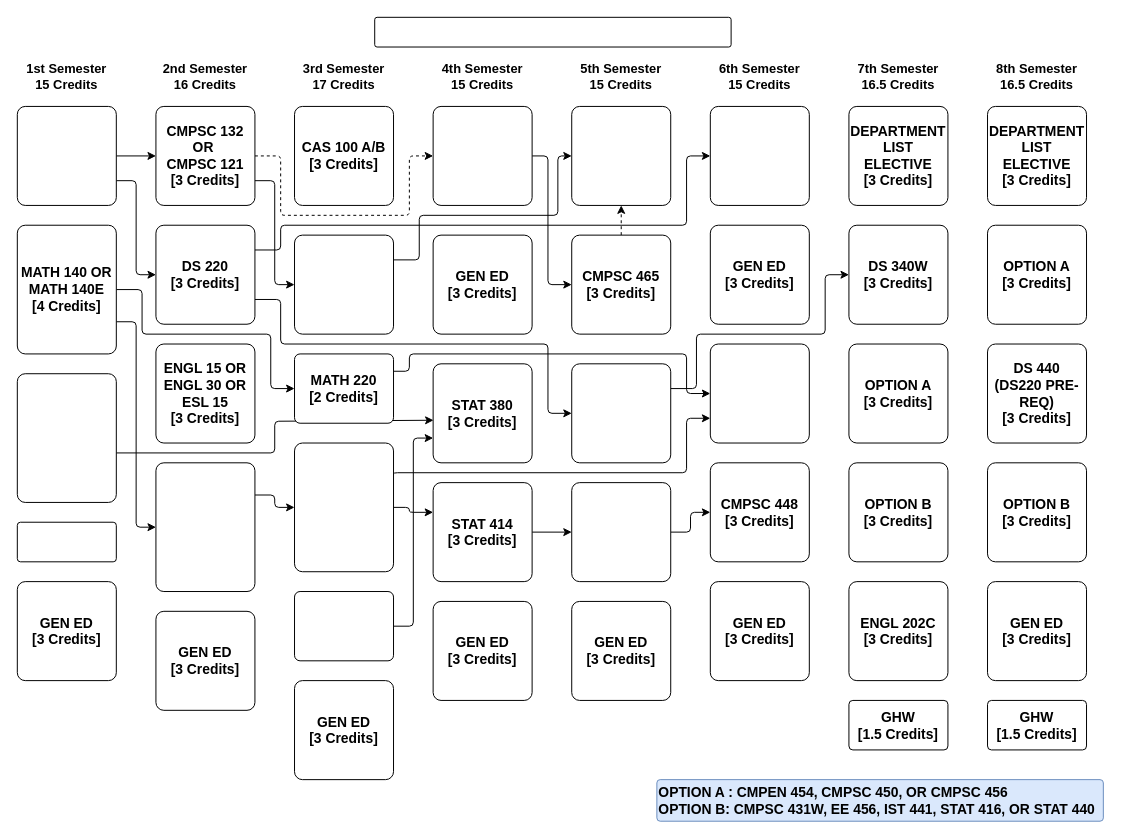
Image size: 1121x839. Some labels were removed from this diagram. The shapes that lost their labels are listed below. From the top down, each one's centre as x and y in pixels, then its label:
(552,31): Computational Data Science
(66,155): CMPSC 131 OR CMPSC 121 [3 Credits]
(482,155): CMPSC 360 [3 Credits]
(621,155): CMPSC 442 OR DS 442 [3 Credits]
(759,155): DS 410 OR CMPSC 410 [3 Credits]
(344,284): CMPSC 221 [3 Credits]
(621,413): DS 300 [3 Credits]
(759,393): CMPSC 455 [3 Credits]
(66,437): DS 200 OR STAT 200 [4 Credits]
(205,527): MATH 141 OR MATH 141E [4 Credits]
(344,507): MATH 230 [4 Credits]
(66,541): FYS [1 Credit]
(621,532): STAT 415 [3 Credits]
(344,626): STAT 184 [2 Credits]
